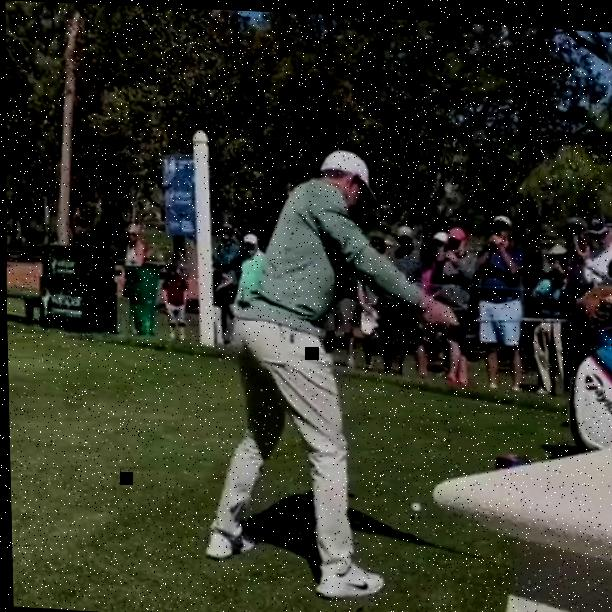GolfBall: (408, 499, 420, 509)
